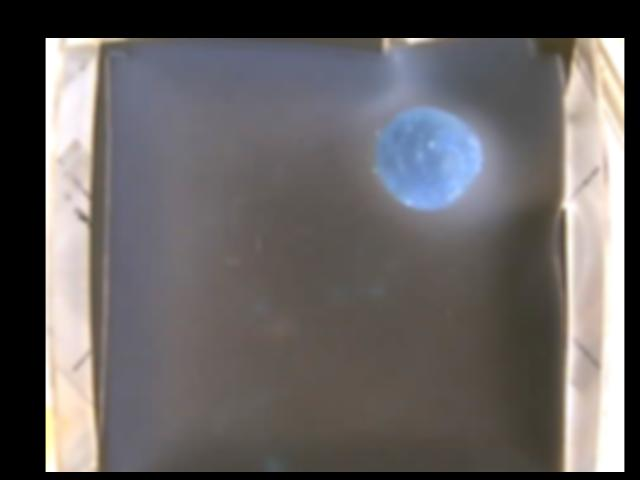Potato: (370, 109, 482, 207)
